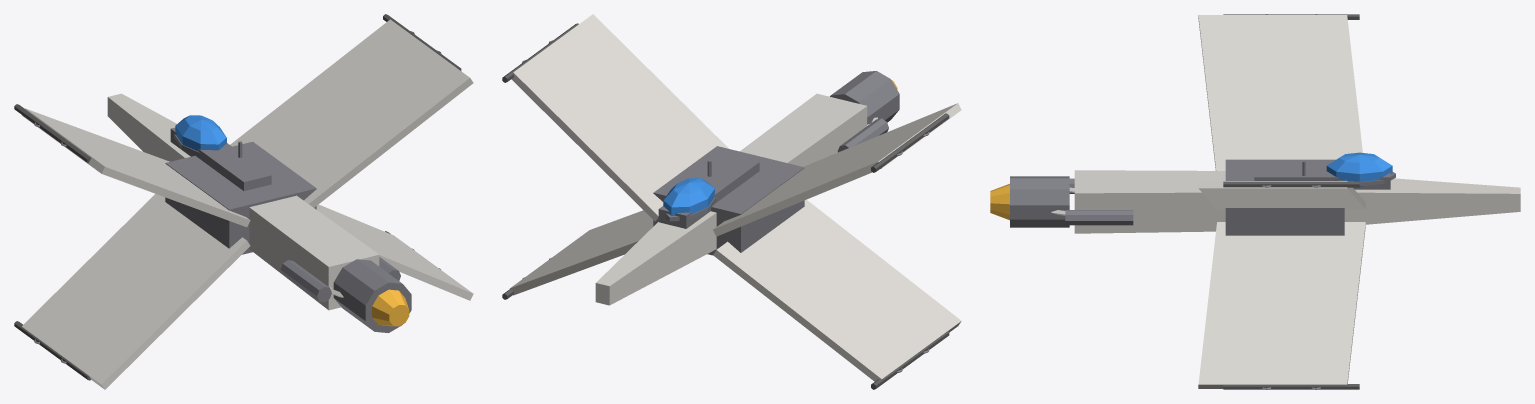
File: X-Wing.fbx
The picture shows the model from 3 angles, left to right: view 1: azimuth 30°, elevation 25°; view 2: azimuth 150°, elevation 25°; view 3: azimuth 270°, elevation 25°; orthographic projection. The views are drawn at different scales.
Visible parts, largest first — view 1: XW_FL_UR; view 2: XW_FL_UR; view 3: XW_FL_UR.
Part boxes in pixels (left/top/right/bottom): XW_FL_UR: left=14, top=14, right=473, bottom=389; XW_FL_UR: left=502, top=14, right=961, bottom=389; XW_FL_UR: left=990, top=14, right=1520, bottom=389.
Size of the model in its own units: 330 by 185 by 428.
